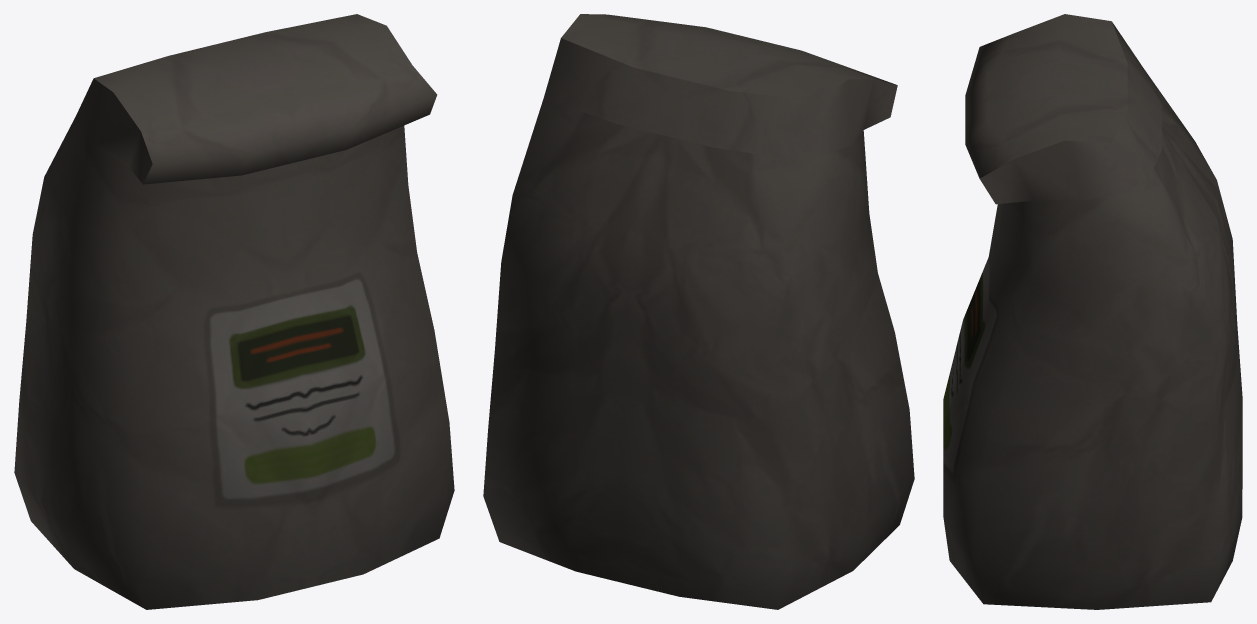
The model's file is FeedSack01.fbx.
3 views of the same model, side by side, from view 1: azimuth 30°, elevation 25°; view 2: azimuth 150°, elevation 25°; view 3: azimuth 270°, elevation 25° (orthographic). The views are drawn at different scales.
Parts seen in each view (by area): view 1: FeedBagType13; view 2: FeedBagType13; view 3: FeedBagType13.
Part boxes in pixels (left/top/right/bottom): FeedBagType13: left=14, top=14, right=454, bottom=609; FeedBagType13: left=483, top=14, right=914, bottom=609; FeedBagType13: left=943, top=14, right=1242, bottom=609.
Bounding box in the file's own units: 3.71 × 5.03 × 2.98.
